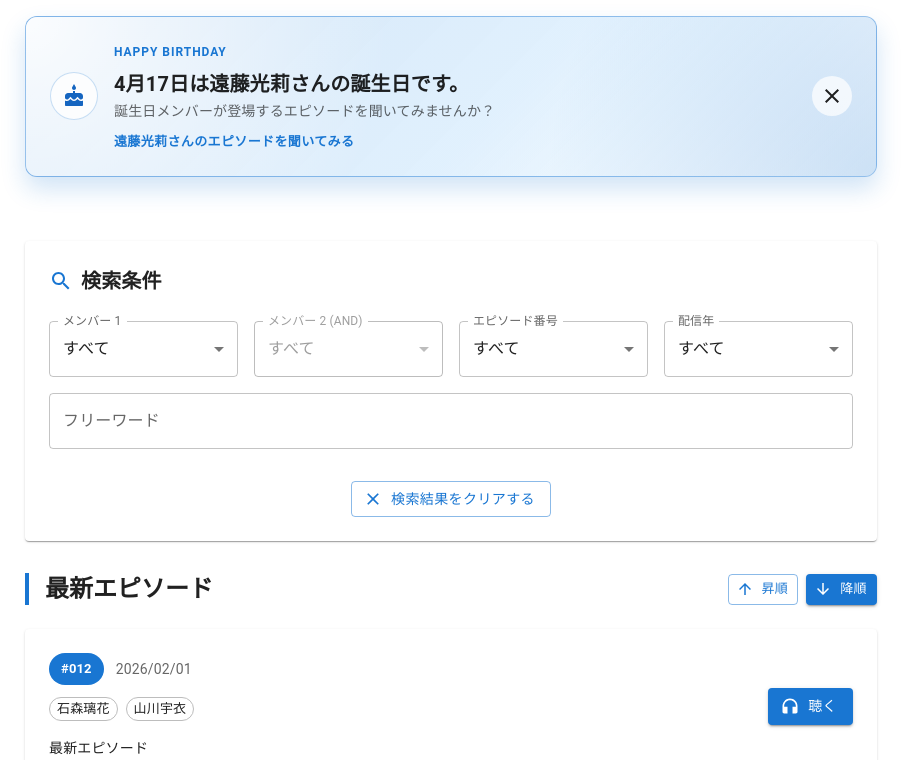
Test: SearchContainer › フリーワード変更時に件数を表示し、クリアすると初期状態へ戻す
Type "april news" into the field labelled "フリーワード" at (451, 421), box left=49, top=393, right=853, bottom=449
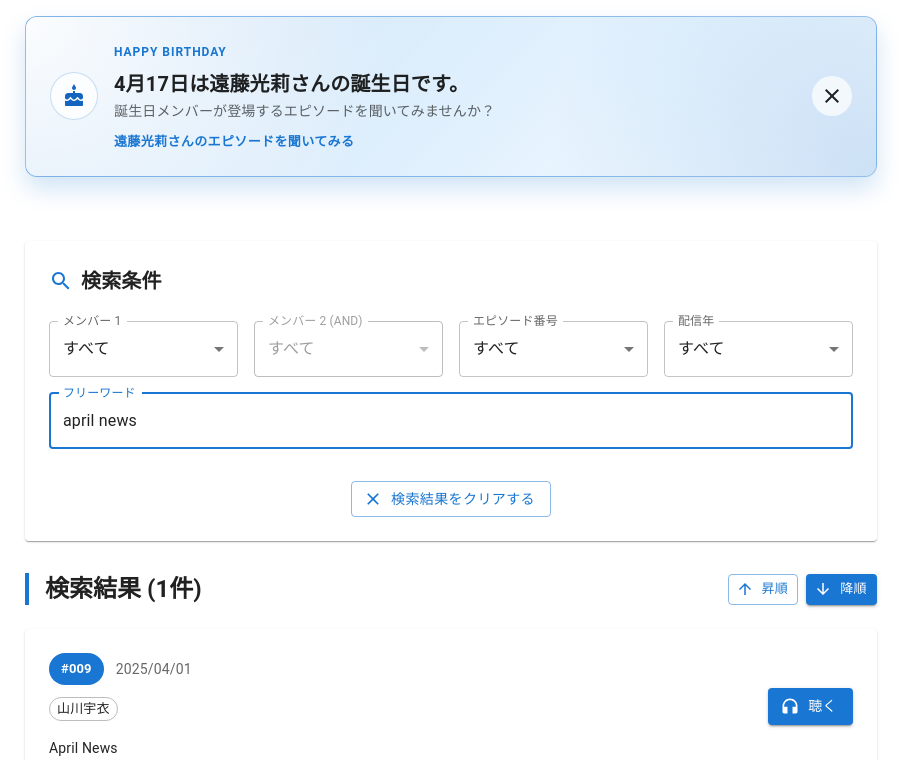
Check: the text "#009" is shown, box left=61, top=661, right=92, bottom=676
Check: the heading "検索結果 (1件)" is shown, box left=25, top=573, right=202, bottom=605
Click the button "検索結果をクリアする" at (451, 499), box left=351, top=481, right=551, bottom=517
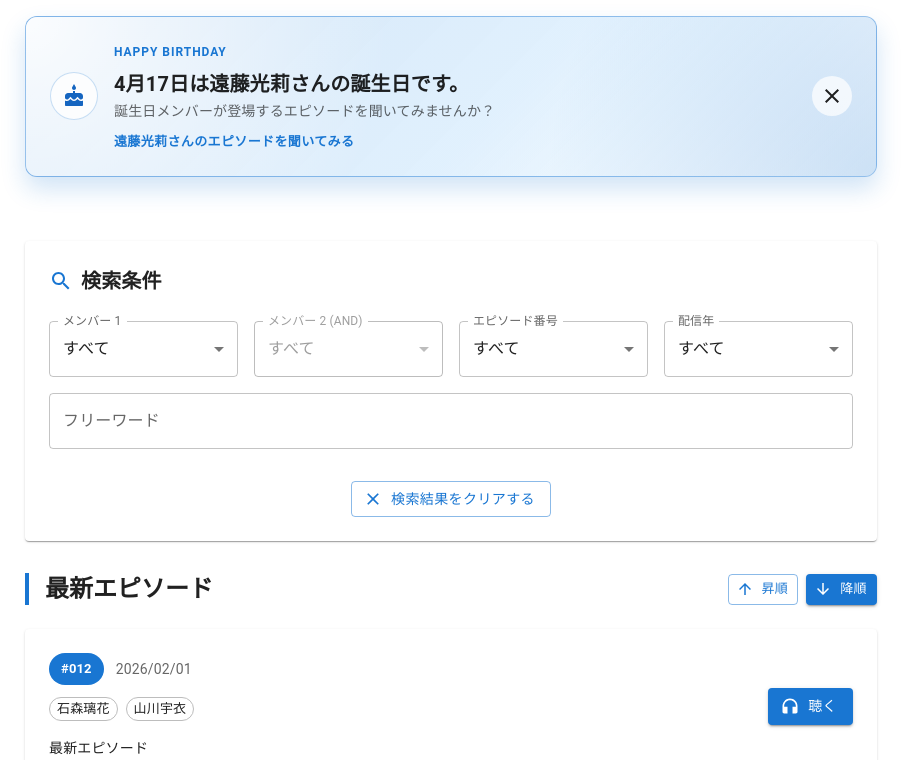
Check: the field labelled "フリーワード" is empty, box left=49, top=393, right=853, bottom=449
Check: the heading "最新エピソード" is shown, box left=25, top=573, right=213, bottom=605
